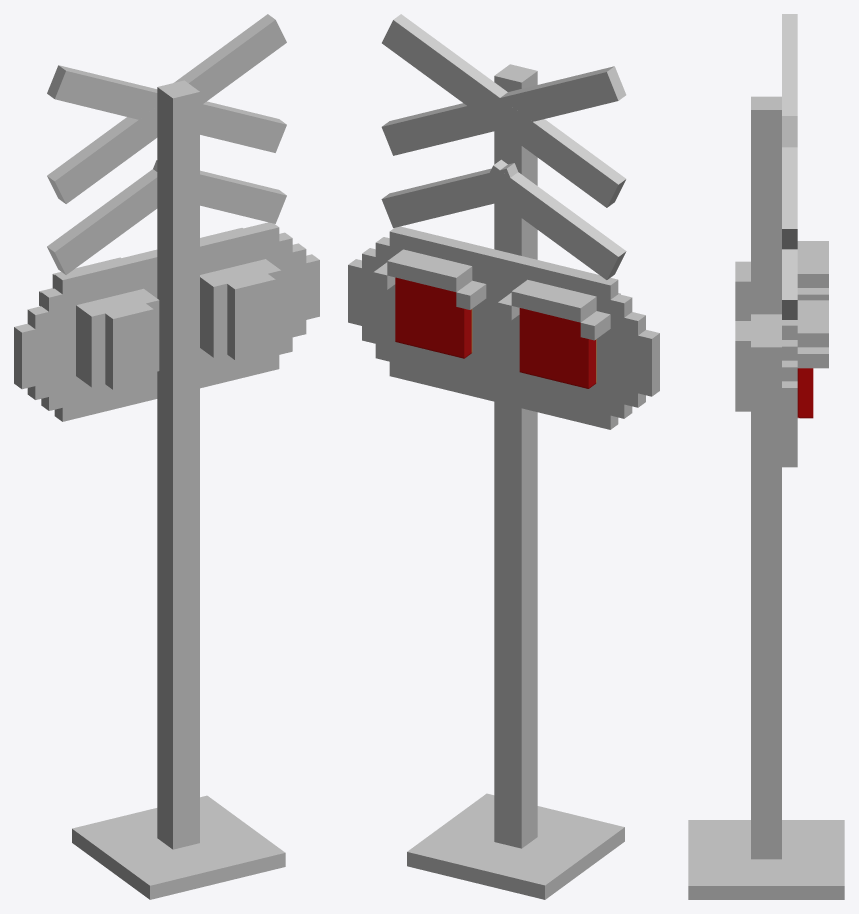
Rendered from polish_signal_with_cross_2.obj.
The picture shows the model from 3 angles, left to right: view 1: azimuth 30°, elevation 25°; view 2: azimuth 150°, elevation 25°; view 3: azimuth 270°, elevation 25°; orthographic projection. The views are drawn at different scales.
Visible parts, largest first — view 1: pole, shield, base, cube, cross big right, cross big left, cross small right, light chamber right small, light chamber left small, light chamber left, light chamber right, cross small left; view 2: pole, shield, base, cube, cross big right, cross big left, cross small right, light right, light left, cross small left, top cover right, top cover left; view 3: pole, base, cross big left, light chamber right, cube, top cover right, top cover left, light chamber right small, cross small left, light chamber left small, light right, cross big right (+1 smaller).
Boxes of the visible parts, bbox=[...] form: pole: bbox=[157, 80, 199, 849]; shield: bbox=[54, 222, 279, 421]; base: bbox=[72, 795, 285, 899]; cube: bbox=[14, 232, 319, 410]; cross big right: bbox=[47, 14, 286, 203]; cross big left: bbox=[47, 65, 286, 152]; cross small right: bbox=[47, 169, 157, 274]; light chamber right small: bbox=[227, 274, 275, 359]; light chamber left small: bbox=[105, 303, 153, 389]; light chamber left: bbox=[76, 288, 159, 387]; light chamber right: bbox=[200, 259, 281, 357]; cross small left: bbox=[153, 160, 286, 223]; pole: bbox=[494, 64, 537, 848]; shield: bbox=[389, 226, 618, 429]; base: bbox=[407, 793, 624, 899]; cube: bbox=[348, 237, 659, 418]; cross big right: bbox=[382, 14, 626, 207]; cross big left: bbox=[381, 66, 626, 155]; cross small right: bbox=[481, 159, 626, 279]; light right: bbox=[395, 277, 472, 358]; light left: bbox=[519, 308, 596, 388]; cross small left: bbox=[381, 163, 517, 227]; top cover right: bbox=[387, 249, 472, 292]; top cover left: bbox=[511, 279, 596, 322]; pole: bbox=[751, 96, 781, 859]; base: bbox=[688, 820, 844, 899]; cross big left: bbox=[782, 14, 797, 249]; light chamber right: bbox=[751, 314, 781, 418]; cube: bbox=[782, 288, 828, 459]; top cover right: bbox=[797, 300, 828, 347]; top cover left: bbox=[797, 241, 828, 287]; light chamber right small: bbox=[735, 321, 750, 411]; cross small left: bbox=[782, 249, 797, 319]; light chamber left small: bbox=[735, 261, 750, 320]; light right: bbox=[797, 368, 813, 418]; cross big right: bbox=[782, 116, 797, 147].
Bounding box in the file's own units: 1.38 × 3.54 × 0.625.
